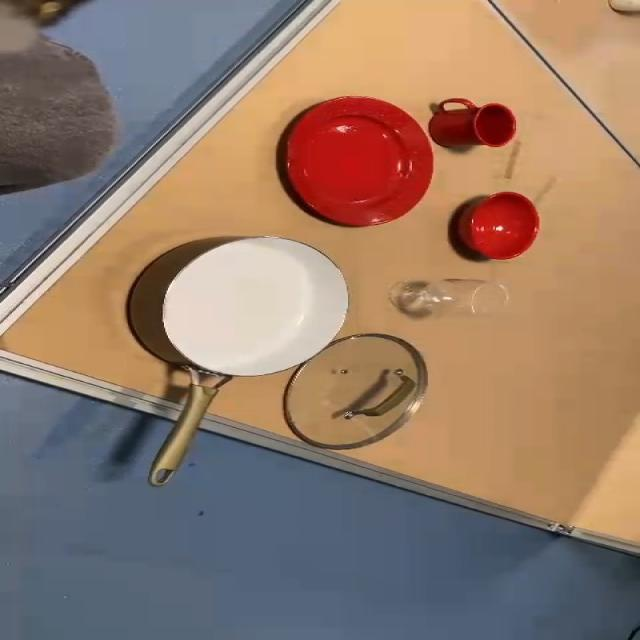Bowl: (458, 190, 545, 266)
Glass: (390, 270, 517, 322)
Plate: (275, 100, 433, 231)
cup: (418, 97, 520, 147)
pot: (133, 225, 357, 487)
